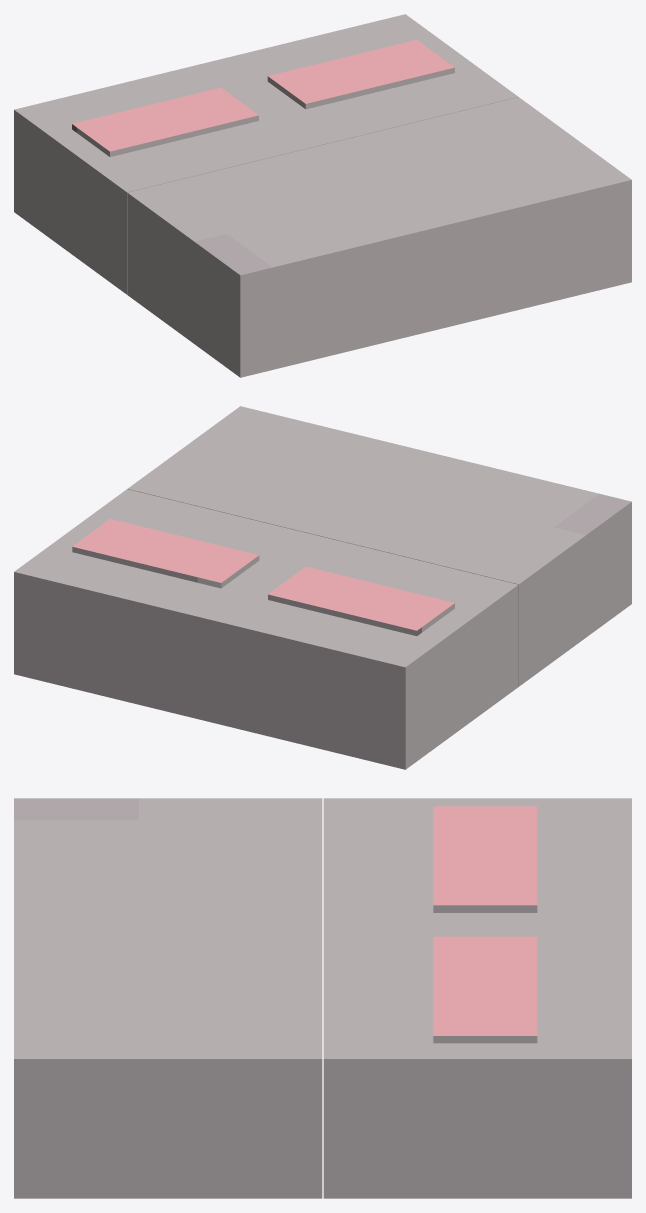
File: Dummy_DoubleBed.FBX
3 renders of one model, top to bottom at view 1: azimuth 30°, elevation 25°; view 2: azimuth 150°, elevation 25°; view 3: azimuth 270°, elevation 25°, orthographic. The views are drawn at different scales.
Parts seen in each view (by area): view 1: Dummy_DoubleBed; view 2: Dummy_DoubleBed; view 3: Dummy_DoubleBed.
Boxes of the visible parts, <box> form: Dummy_DoubleBed: <box>14,14,631,377</box>; Dummy_DoubleBed: <box>14,406,631,769</box>; Dummy_DoubleBed: <box>14,798,631,1198</box>.
Bounding box in the file's own units: 120 × 31.62 × 120.
